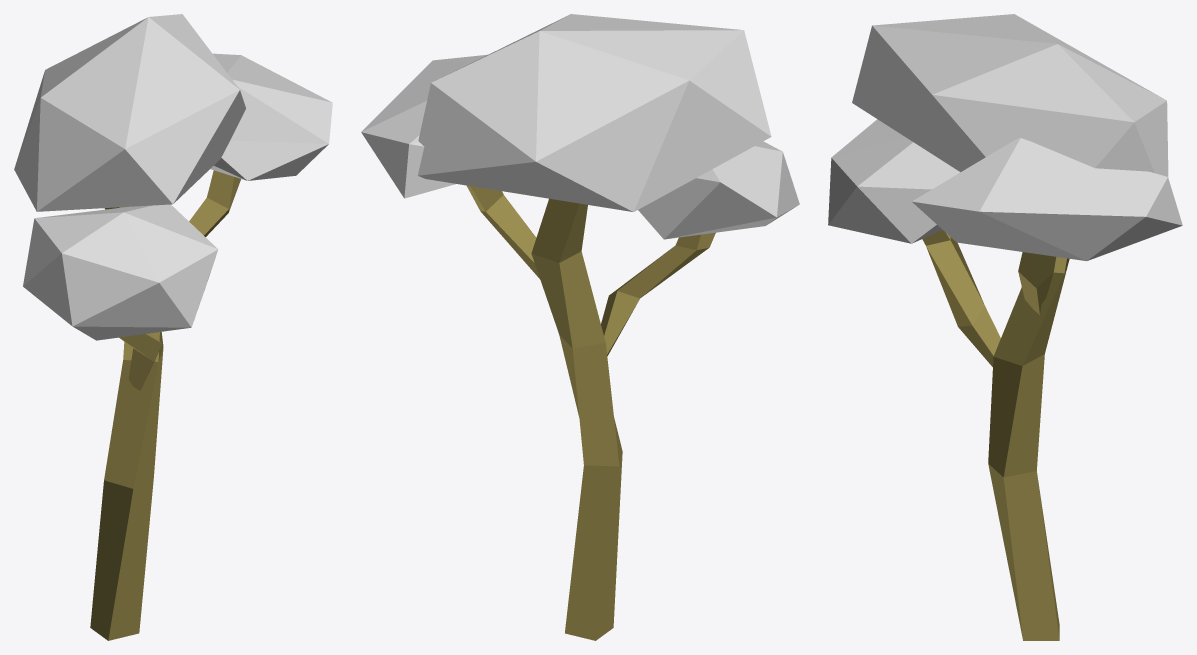
File: Tree_Winter_3.fbx
3 views of the same model, side by side, from view 1: azimuth 30°, elevation 25°; view 2: azimuth 150°, elevation 25°; view 3: azimuth 270°, elevation 25° (orthographic). The views are drawn at different scales.
Parts seen in each view (by area): view 1: Leaves.002, Leaves.001, Trunk, Leaves, Trunk.001, Trunk.002; view 2: Leaves.002, Trunk, Leaves.001, Leaves, Trunk.002, Trunk.001; view 3: Leaves.002, Leaves, Trunk, Leaves.001, Trunk.002, Trunk.001.
Boxes of the visible parts, box(x1,y1,x2,y2) form: Leaves.002: box(14, 14, 245, 211); Leaves.001: box(23, 204, 218, 340); Trunk: box(90, 207, 163, 640); Leaves: box(210, 53, 332, 180); Trunk.001: box(189, 170, 240, 236); Trunk.002: box(119, 333, 162, 390); Leaves.002: box(418, 14, 771, 211); Trunk: box(531, 198, 622, 640); Leaves.001: box(638, 141, 799, 239); Leaves: box(361, 54, 487, 198); Trunk.002: box(601, 232, 715, 356); Trunk.001: box(467, 185, 540, 279); Leaves.002: box(852, 14, 1168, 176); Leaves: box(912, 138, 1182, 261); Trunk: box(988, 257, 1069, 640); Leaves.001: box(828, 119, 960, 243); Trunk.002: box(922, 230, 1000, 366); Trunk.001: box(1018, 252, 1056, 314).
Size of the model in its own units: 197 by 344 by 181.
